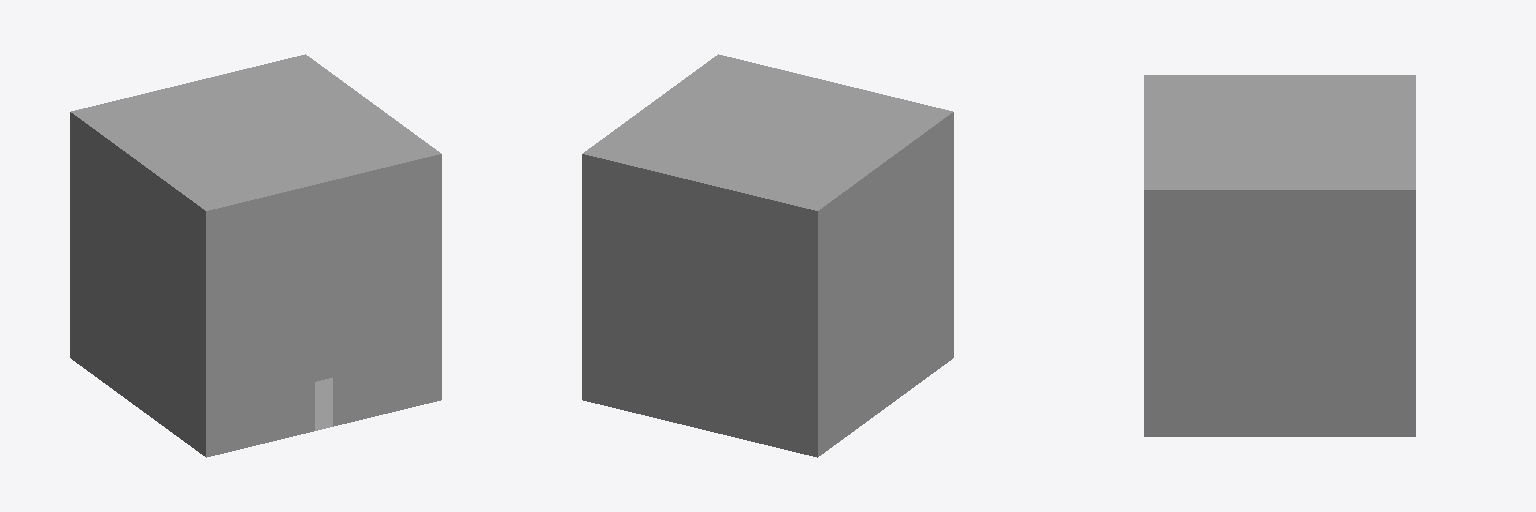
The model's file is box-slit.obj.
The picture shows the model from 3 angles: view 1: azimuth 30°, elevation 25°; view 2: azimuth 150°, elevation 25°; view 3: azimuth 270°, elevation 25°; orthographic projection.
Parts seen in each view (by area): view 1: Box; view 2: Box; view 3: Box.
Boxes of the visible parts, box(x1,y1,x2,y2) form: Box: box(70, 54, 441, 457); Box: box(582, 54, 953, 457); Box: box(1144, 75, 1415, 436).
Size of the model in its own units: 1 by 1 by 1.